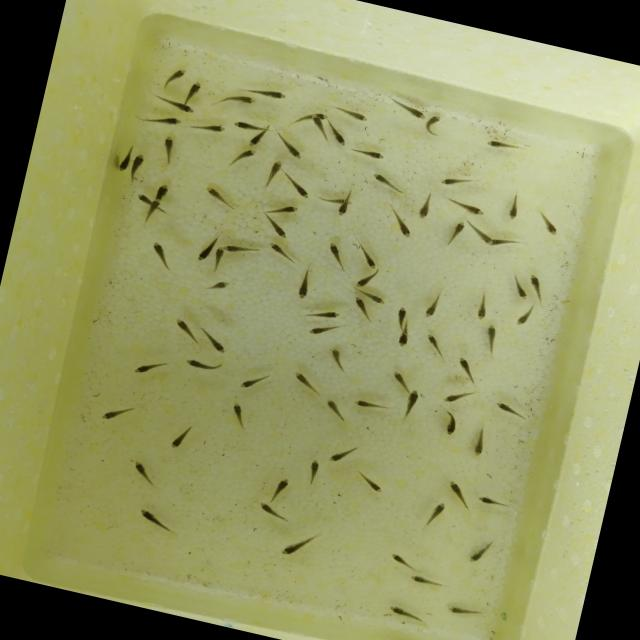fingerling: (277, 523, 324, 565), (144, 93, 199, 119), (134, 506, 180, 536), (131, 108, 185, 133), (198, 184, 242, 214), (384, 95, 428, 124), (464, 532, 498, 569), (212, 88, 258, 114), (126, 458, 162, 491), (164, 315, 202, 346), (348, 467, 388, 496), (382, 207, 416, 240), (443, 478, 477, 511), (187, 116, 230, 142), (238, 82, 288, 104), (264, 472, 296, 506), (130, 354, 168, 382), (256, 212, 294, 240), (384, 603, 429, 626), (344, 294, 376, 326), (368, 172, 410, 196), (100, 399, 136, 427), (258, 156, 286, 192), (253, 500, 295, 524), (264, 240, 302, 266), (468, 424, 494, 462), (327, 439, 361, 468), (223, 399, 252, 433), (279, 173, 314, 201), (482, 136, 530, 156), (166, 418, 194, 452), (462, 218, 496, 246), (328, 102, 371, 124), (445, 196, 487, 218), (274, 134, 308, 161), (145, 238, 174, 269), (422, 497, 448, 531), (478, 322, 504, 356), (155, 133, 180, 168), (400, 388, 423, 426), (437, 171, 475, 194), (422, 334, 451, 364), (158, 64, 188, 93), (451, 354, 482, 382), (301, 456, 325, 492), (112, 140, 136, 176), (196, 329, 229, 355), (294, 263, 316, 302), (289, 370, 324, 394), (222, 239, 262, 260), (444, 602, 486, 622), (474, 492, 516, 512), (238, 368, 270, 394), (320, 398, 352, 424), (192, 233, 218, 265), (406, 572, 447, 592), (534, 210, 563, 238), (414, 190, 439, 222), (306, 320, 342, 342), (386, 551, 422, 573), (512, 304, 540, 332), (524, 274, 550, 304), (183, 356, 224, 375), (438, 387, 473, 409), (444, 217, 468, 249), (506, 274, 532, 302), (304, 112, 328, 142), (352, 396, 391, 414), (472, 287, 492, 322), (126, 152, 147, 185), (230, 145, 258, 169), (306, 304, 343, 322), (323, 240, 348, 266), (352, 267, 378, 292), (356, 243, 380, 270), (326, 345, 350, 372), (349, 145, 387, 162), (439, 410, 462, 438), (504, 192, 524, 224), (491, 234, 524, 253), (327, 124, 352, 148), (422, 111, 444, 138), (229, 118, 265, 134), (388, 370, 414, 392), (202, 276, 230, 296), (494, 401, 526, 418), (182, 78, 202, 105), (268, 200, 298, 218), (394, 325, 414, 351), (208, 244, 225, 274), (336, 188, 353, 218), (422, 292, 440, 320), (152, 178, 174, 200), (242, 130, 266, 150), (146, 197, 162, 221), (365, 290, 389, 306), (393, 302, 409, 325), (132, 192, 151, 206)
